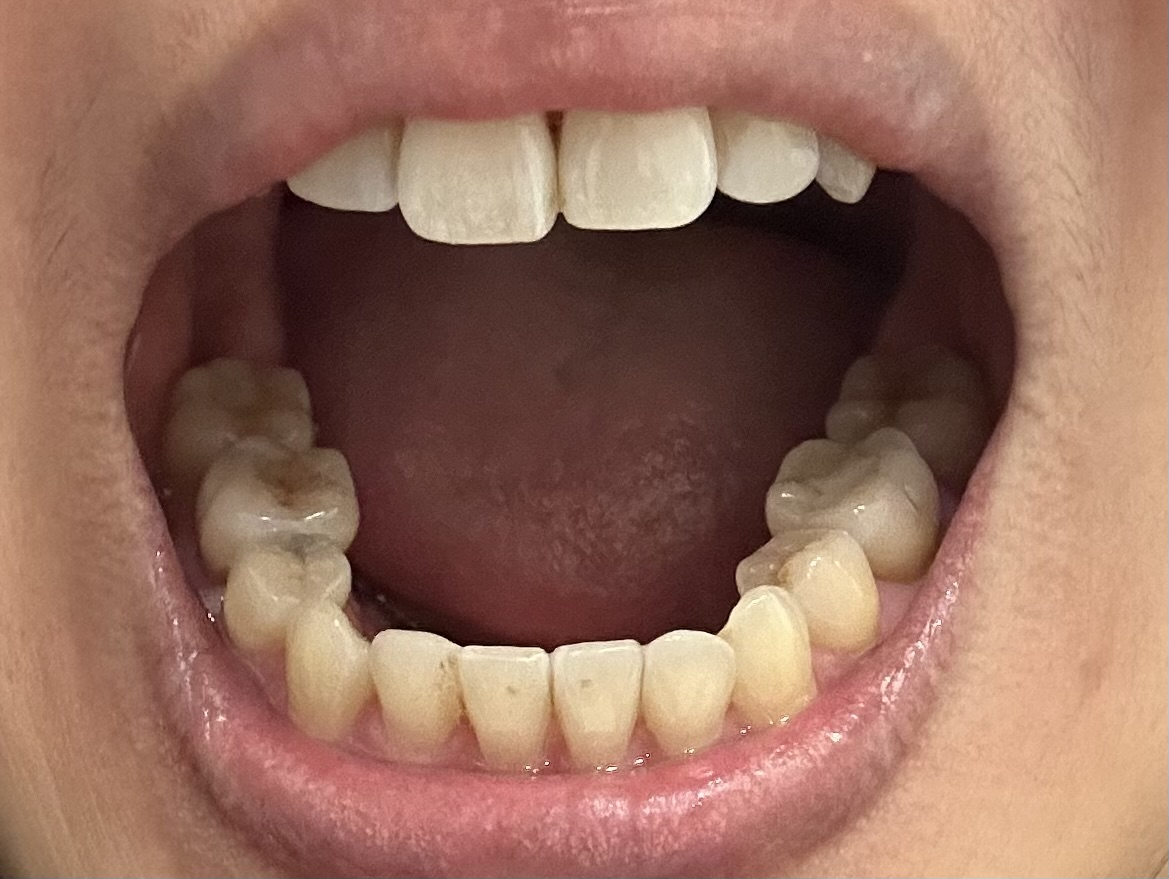teeth: (770, 438, 938, 577), (194, 443, 356, 570), (403, 111, 553, 247), (833, 348, 983, 483), (560, 102, 713, 224), (170, 361, 307, 490), (736, 529, 879, 647), (723, 589, 821, 727), (219, 544, 351, 643), (460, 645, 551, 769), (288, 603, 366, 740), (650, 631, 738, 751), (557, 643, 641, 767), (370, 630, 457, 746), (719, 100, 819, 199), (284, 131, 394, 213), (820, 137, 869, 203)
